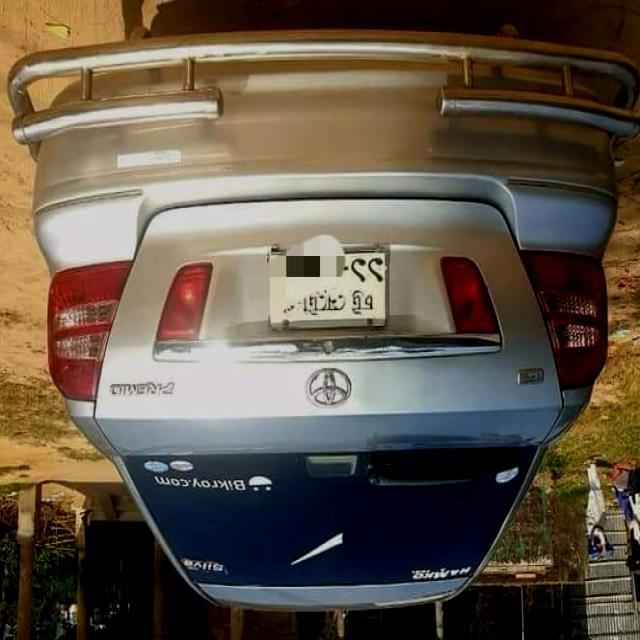silver: (0, 64, 626, 606)
